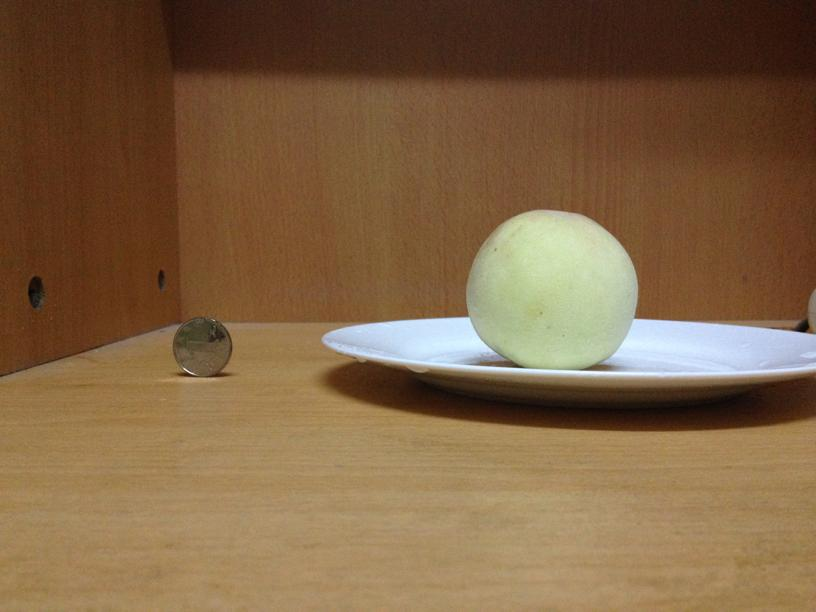coin: (170, 315, 235, 379)
peach: (465, 205, 637, 368)
